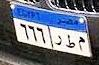6: (37, 27, 45, 42), (29, 26, 36, 41), (21, 24, 27, 38)
Taa: (66, 34, 75, 49)
meem: (77, 35, 85, 51)
raa: (53, 35, 62, 47)
